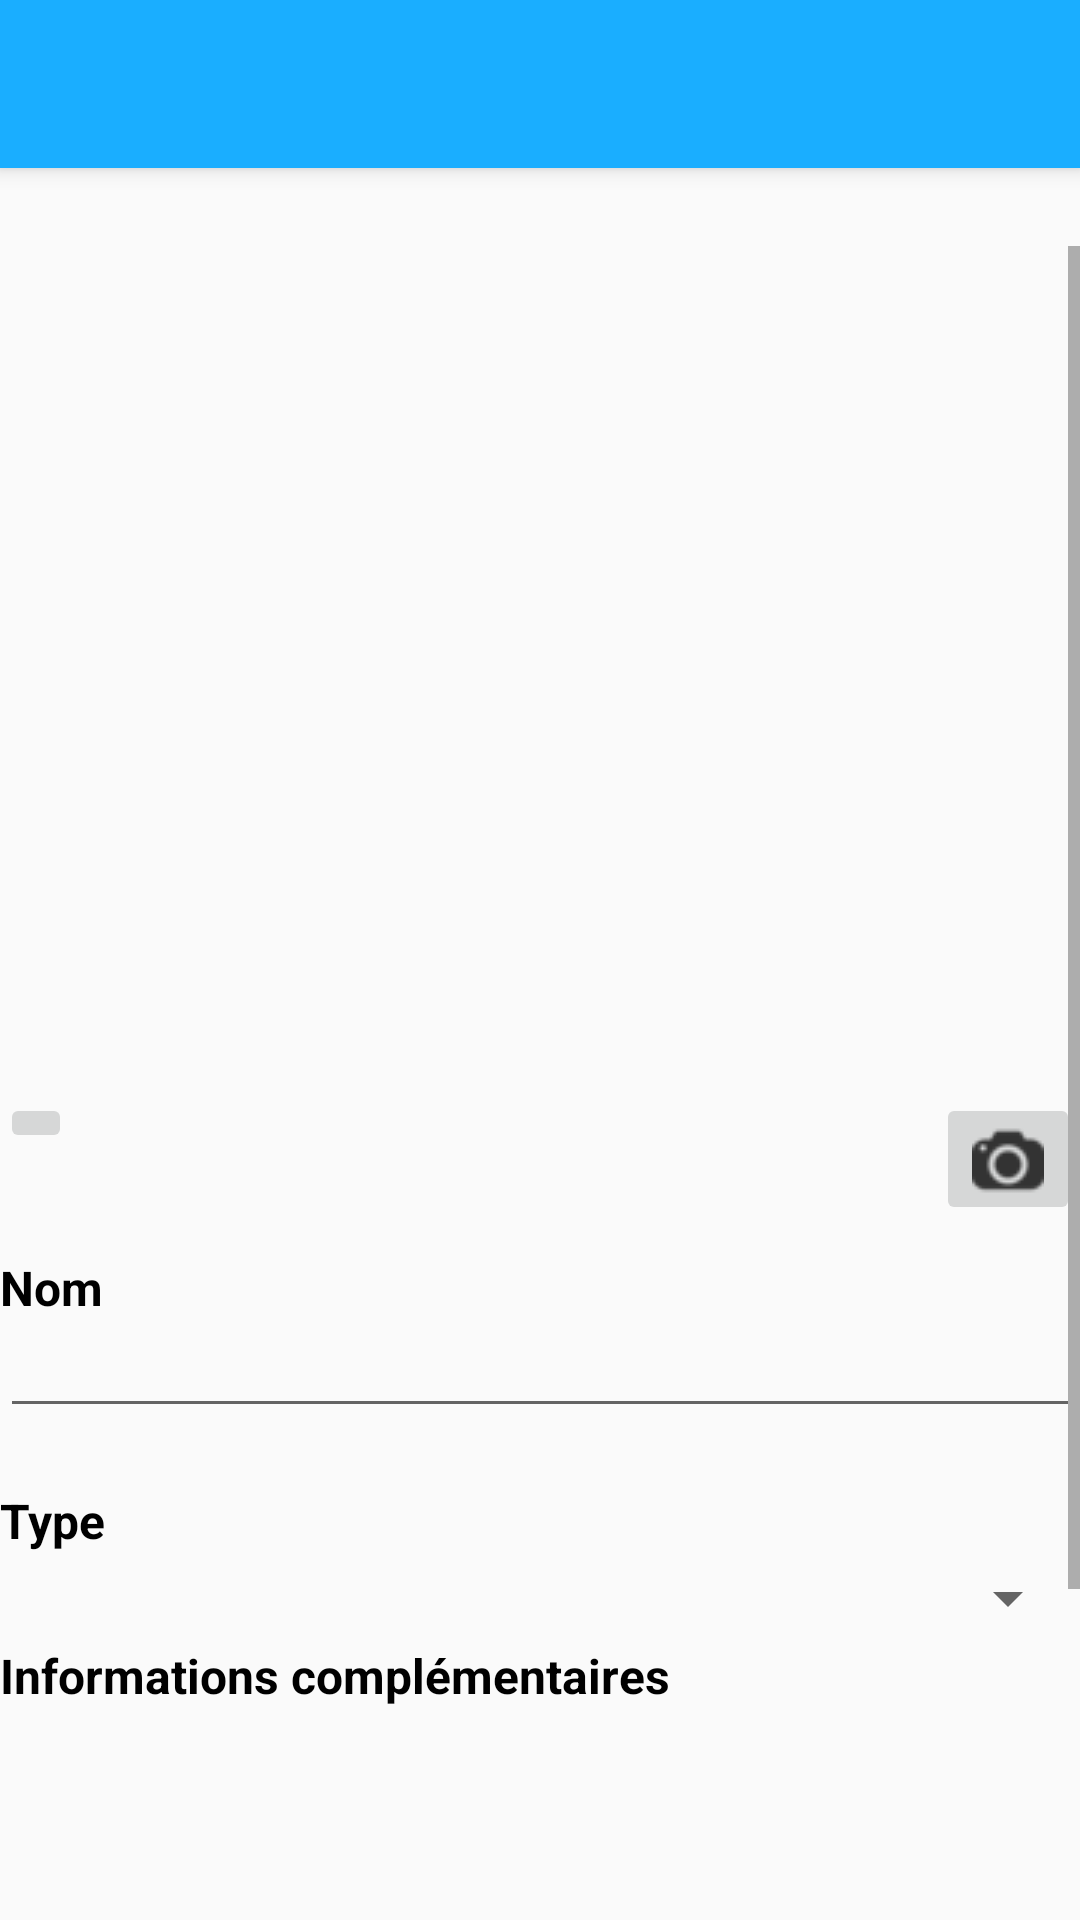

Screen size 1080x1920. Icon name, then its center in pixels as [x,y]:
take picture: [1014,1159]
